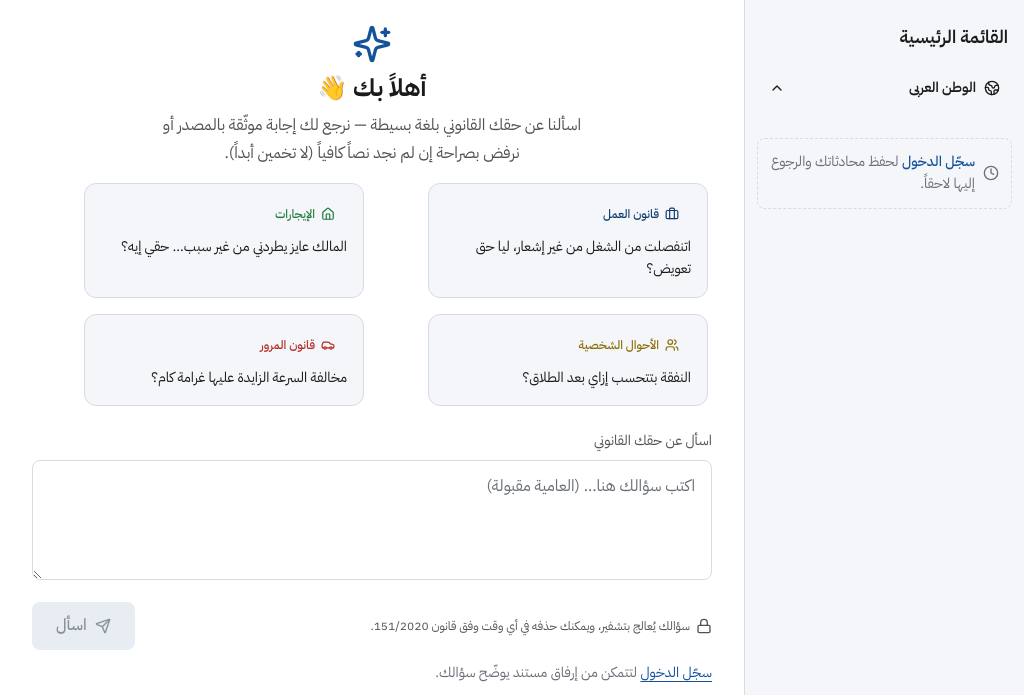
Test case: ChatScreen › «إعادة المحاولة» تُعيد إرسال آخر سؤال فاشل فعلياً
In the text box labelled "اسأل عن حقك القانوني": x=372, y=520 [32,460,712,580], type "سؤال عن الإيجار القديم"
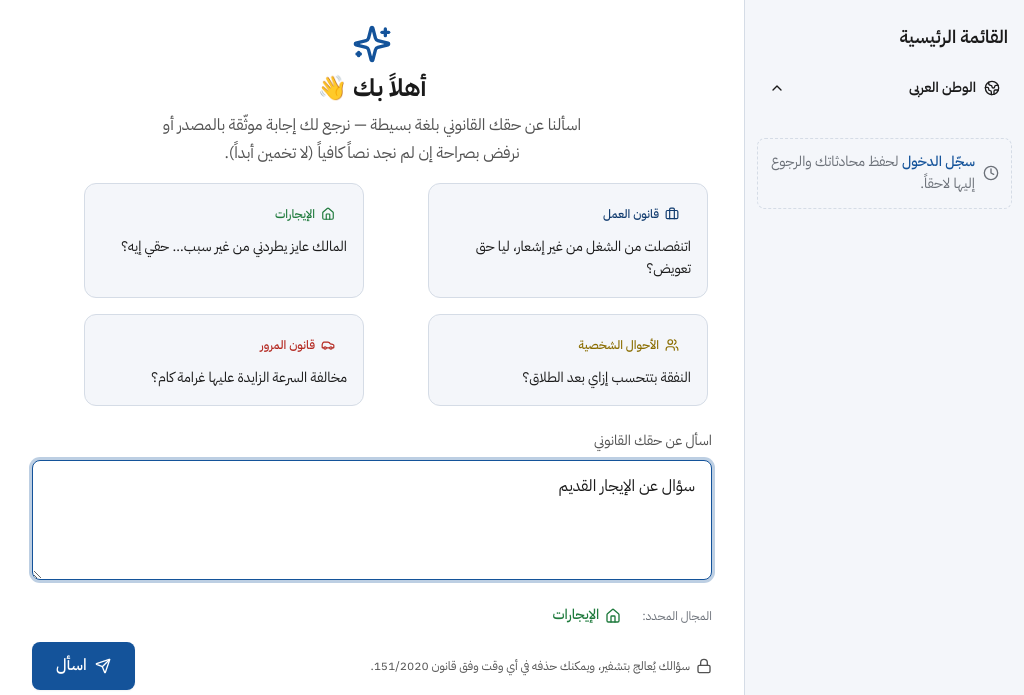
Click the button with aria-label "إرسال السؤال": x=83, y=666 [32,642,135,690]
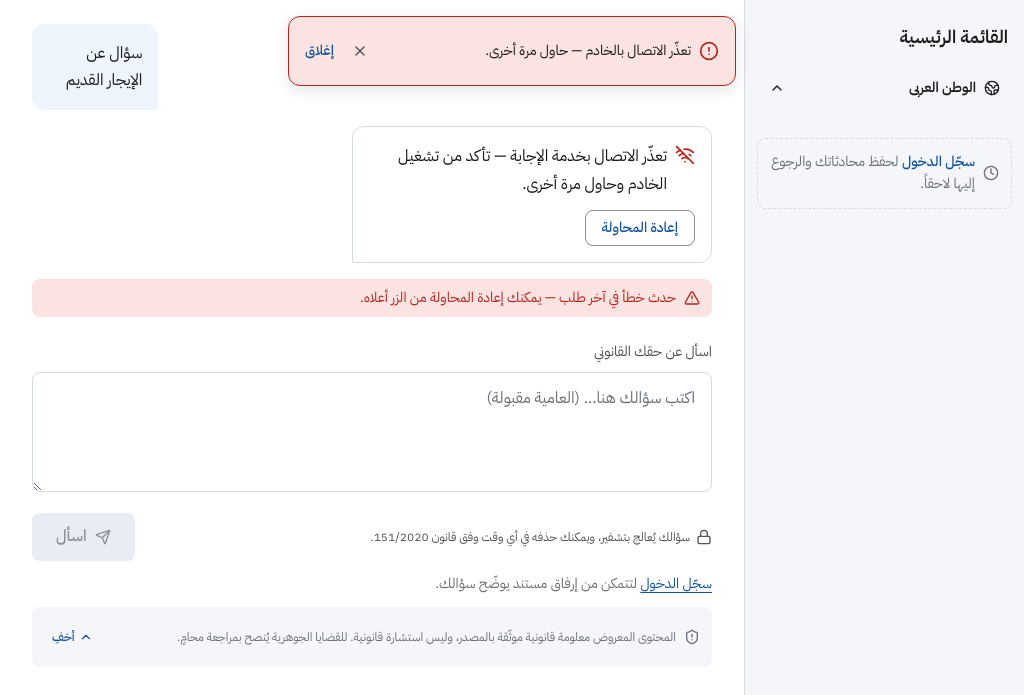
Now the button "إعادة المحاولة" is shown
Click the button "إعادة المحاولة": x=640, y=228 [584,210,695,246]
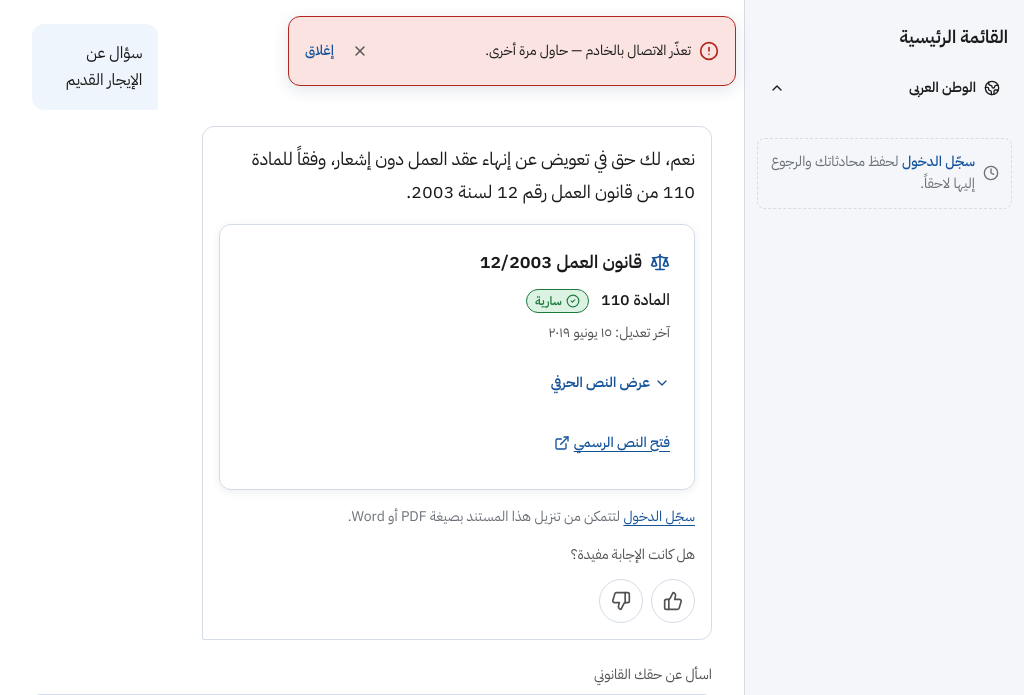
Now the text "نعم، لك حق في تعويض عن إنهاء عقد العمل دون إشعار، وفقاً للمادة 110 من قانون العمل رقم 12 لسنة 2003." is shown, box [252,145,695,205]
Now the text "تعذّر الاتصال بخدمة الإجابة" is gone
